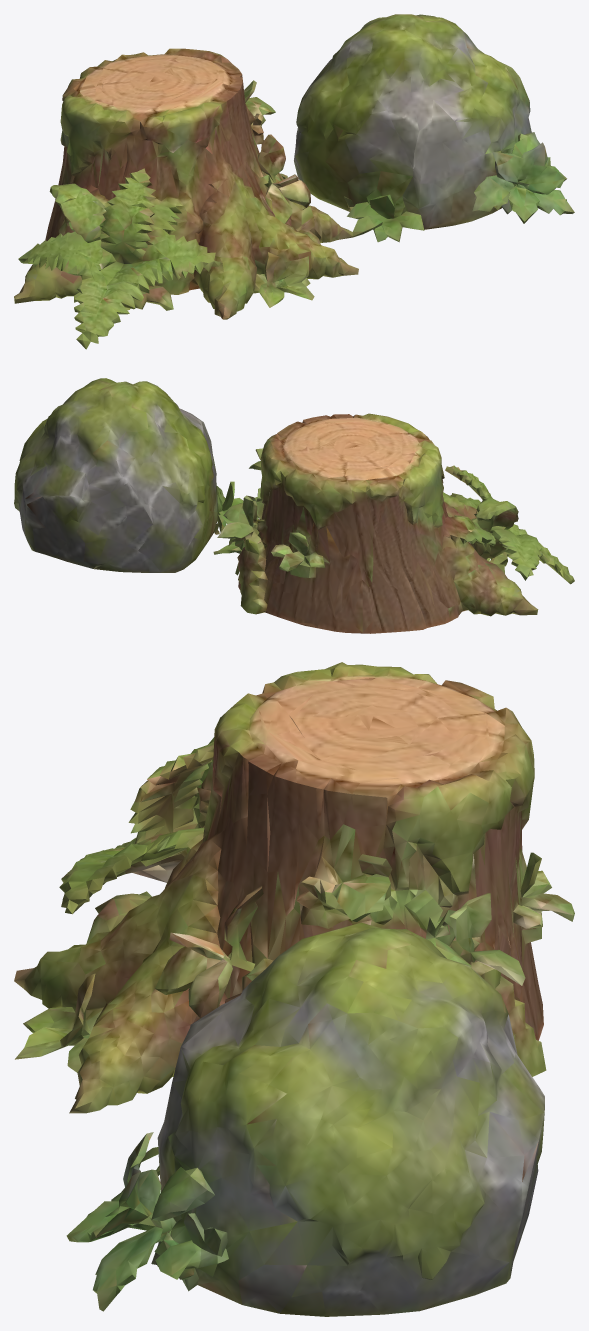
The model's file is tocon_roca.glb.
3 views of the same model, one above another, from view 1: azimuth 30°, elevation 25°; view 2: azimuth 150°, elevation 25°; view 3: azimuth 270°, elevation 25° (orthographic). The views are drawn at different scales.
Visible parts, largest first — view 1: tocon_roca_malla; view 2: tocon_roca_malla; view 3: tocon_roca_malla.
Boxes of the visible parts, x1,y1,x2,y2 form: tocon_roca_malla: (14,14,574,349); tocon_roca_malla: (14,378,574,633); tocon_roca_malla: (14,662,574,1316).
Bounding box in the file's own units: 0.6059 × 0.1912 × 0.3097.
Materials: 1 (1 with a texture image).
